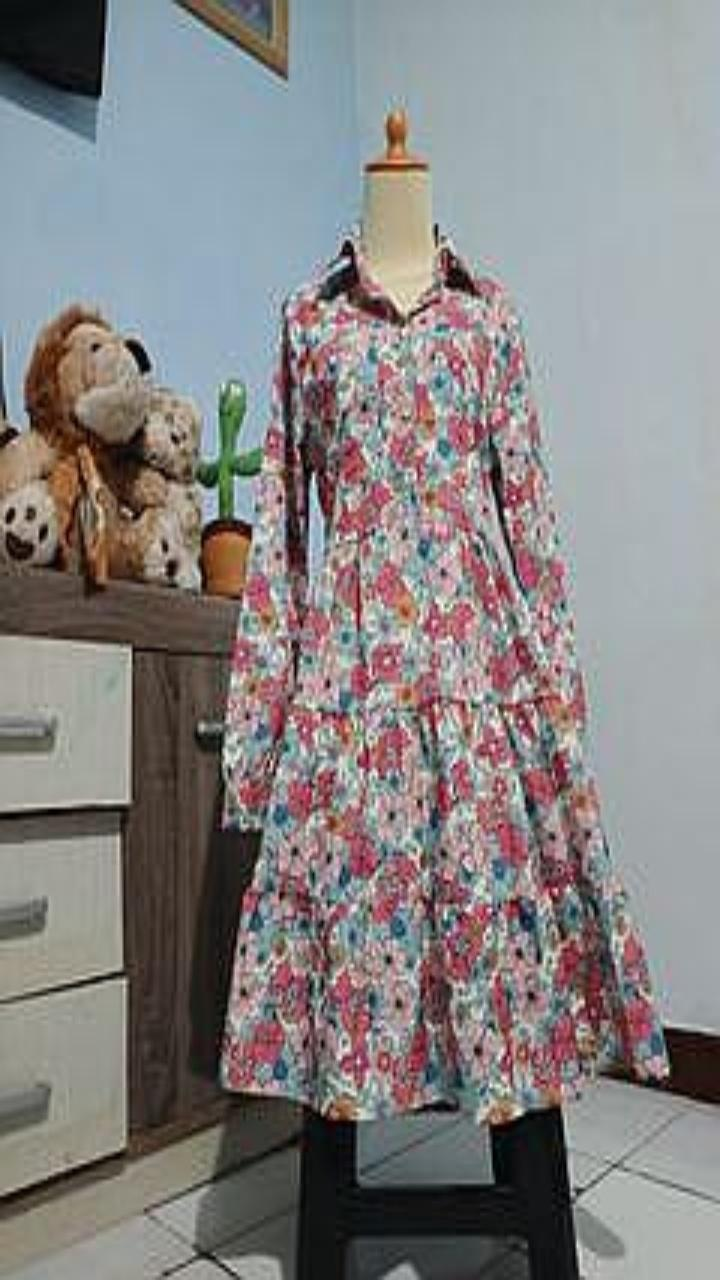Dresses: (220, 226, 667, 1121)
